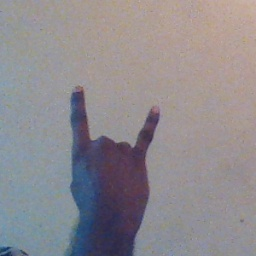V: (64, 80, 171, 224)
